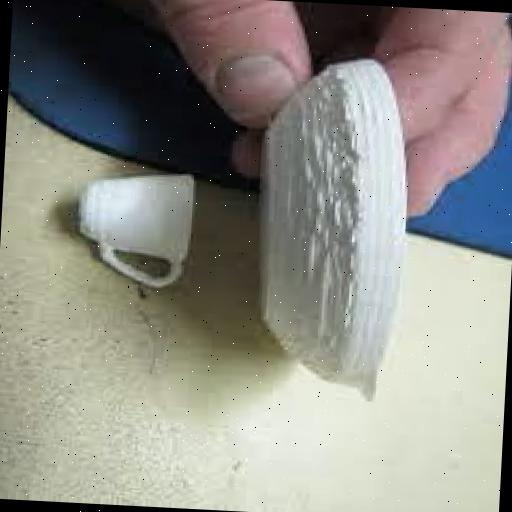cracks: (272, 60, 374, 378)
